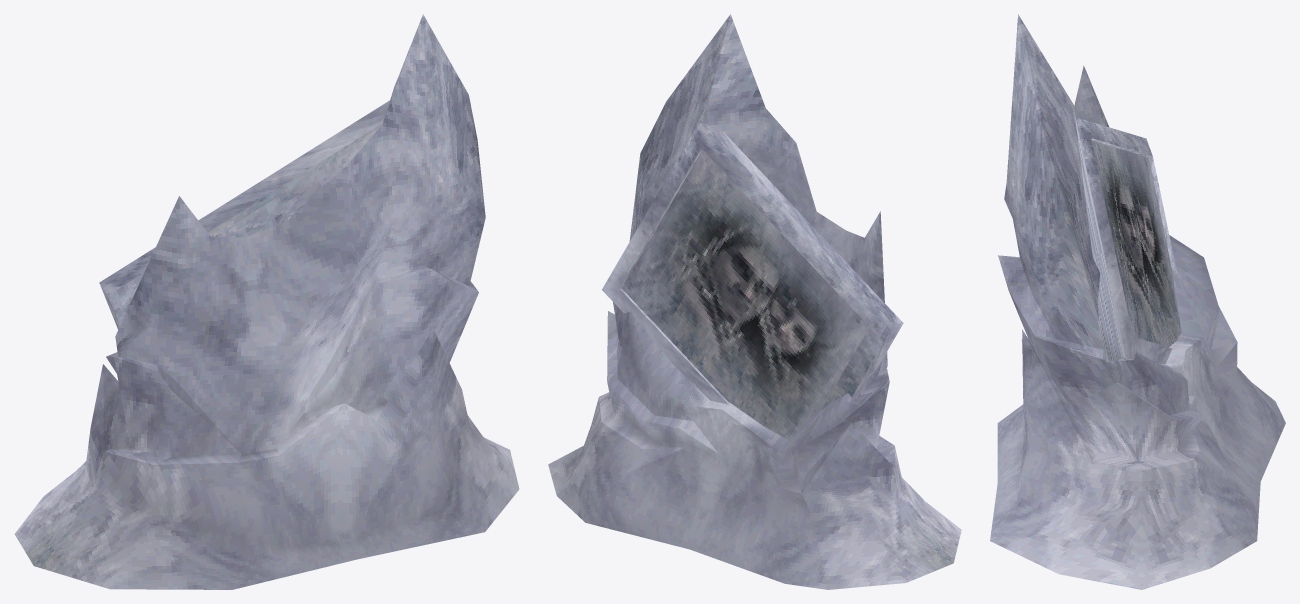
The model's file is ps2_save-icons_silenthillshatteredmemories.glb.
3 renders of one model, left to right at view 1: azimuth 30°, elevation 25°; view 2: azimuth 150°, elevation 25°; view 3: azimuth 270°, elevation 25°, orthographic. The views are drawn at different scales.
Visible parts, largest first — view 1: save.ico; view 2: save.ico; view 3: save.ico.
Boxes of the visible parts, x1,y1,x2,y2 form: save.ico: (14,14,519,589); save.ico: (548,14,961,589); save.ico: (990,14,1285,589).
Bounding box in the file's own units: 3.94 × 4.11 × 2.18.
Materials: 1 (1 with a texture image).
